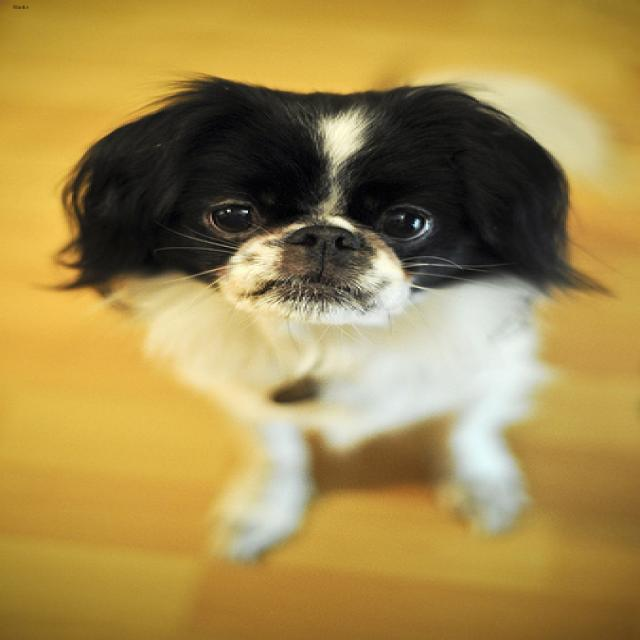dog-japanese_chin: (15, 58, 636, 577)
